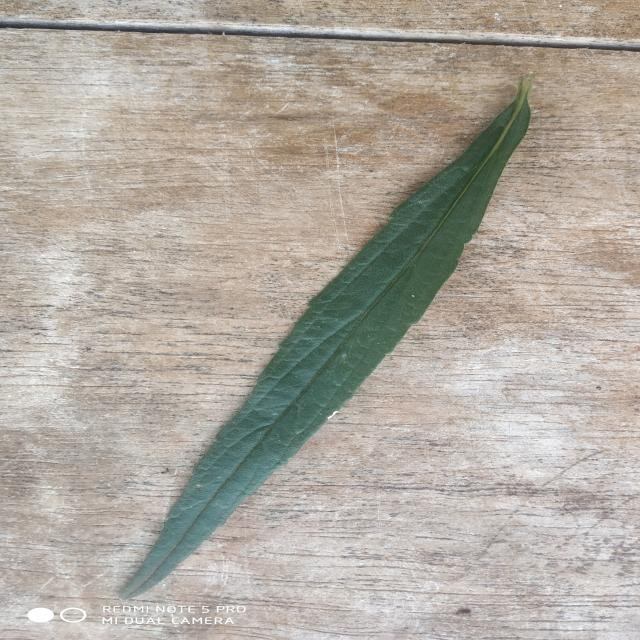thambe: (120, 76, 533, 599)
